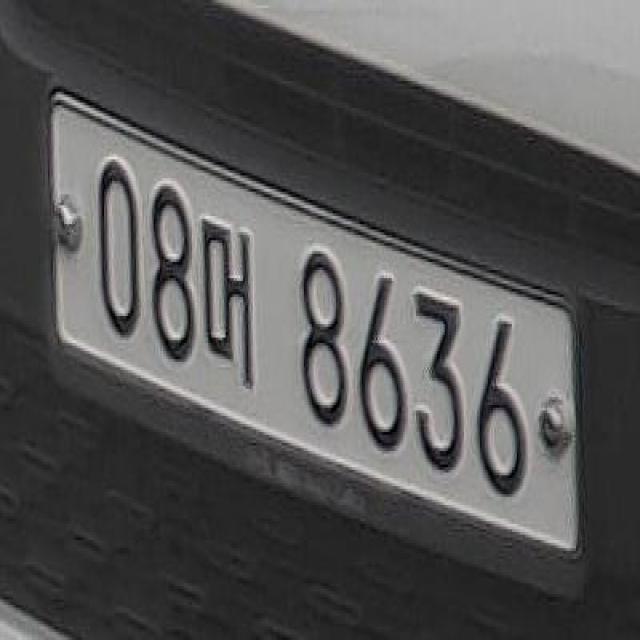illegal_plate: (50, 94, 576, 571)
